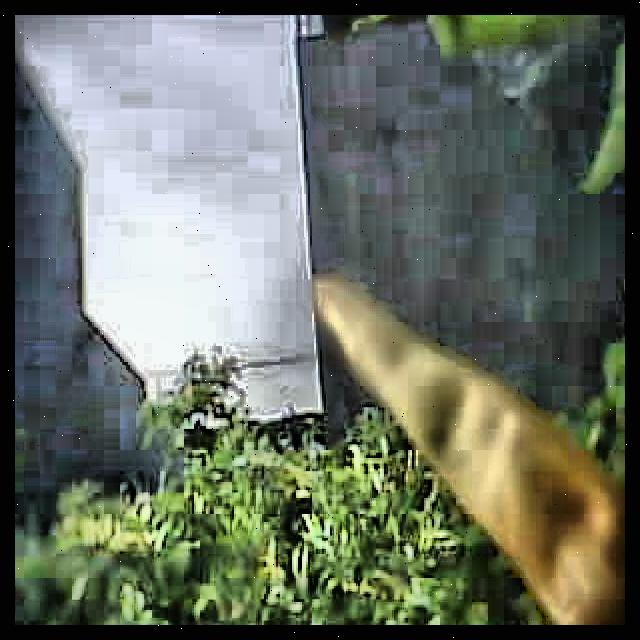Cabai: (315, 269, 625, 603)
